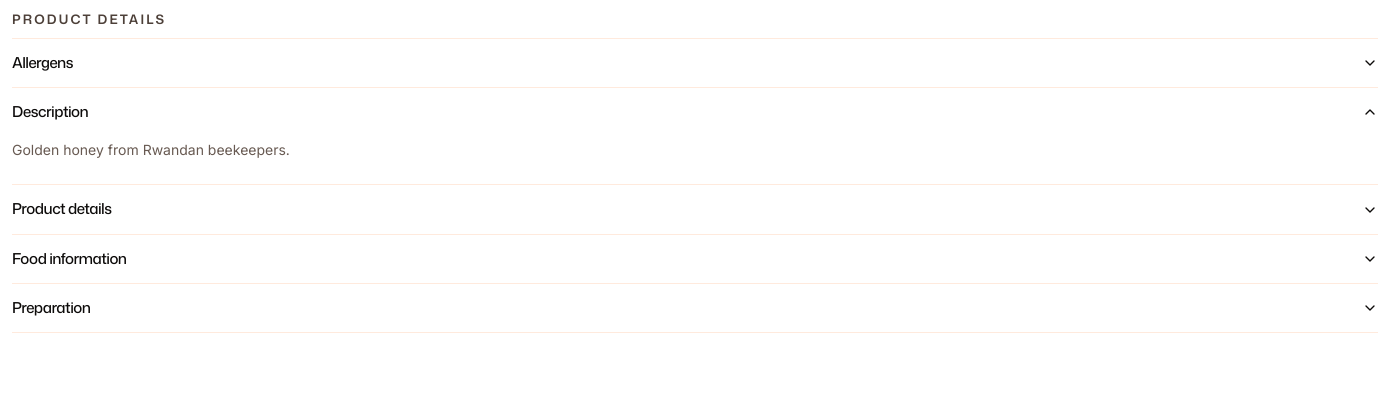
Test case: ProductFacts › emphasizes a supplied allergen declaration
Click the button "Allergens" at point(42, 63), box [12,39,1378,87]
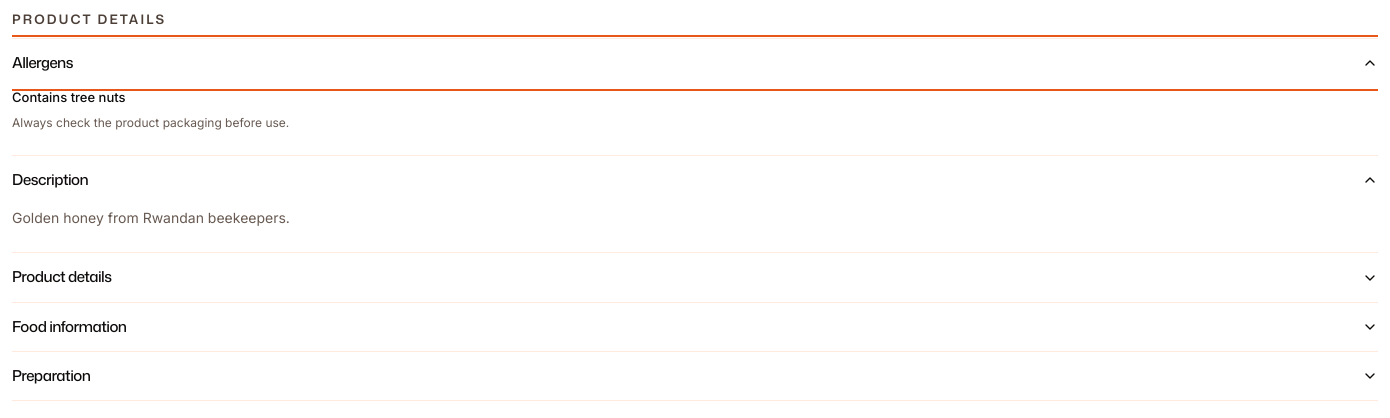
Check: the text "Contains tree nuts" is shown, box [12,89,126,105]
Check: the text "Always check the product packaging before use." is shown, box [12,115,289,130]
